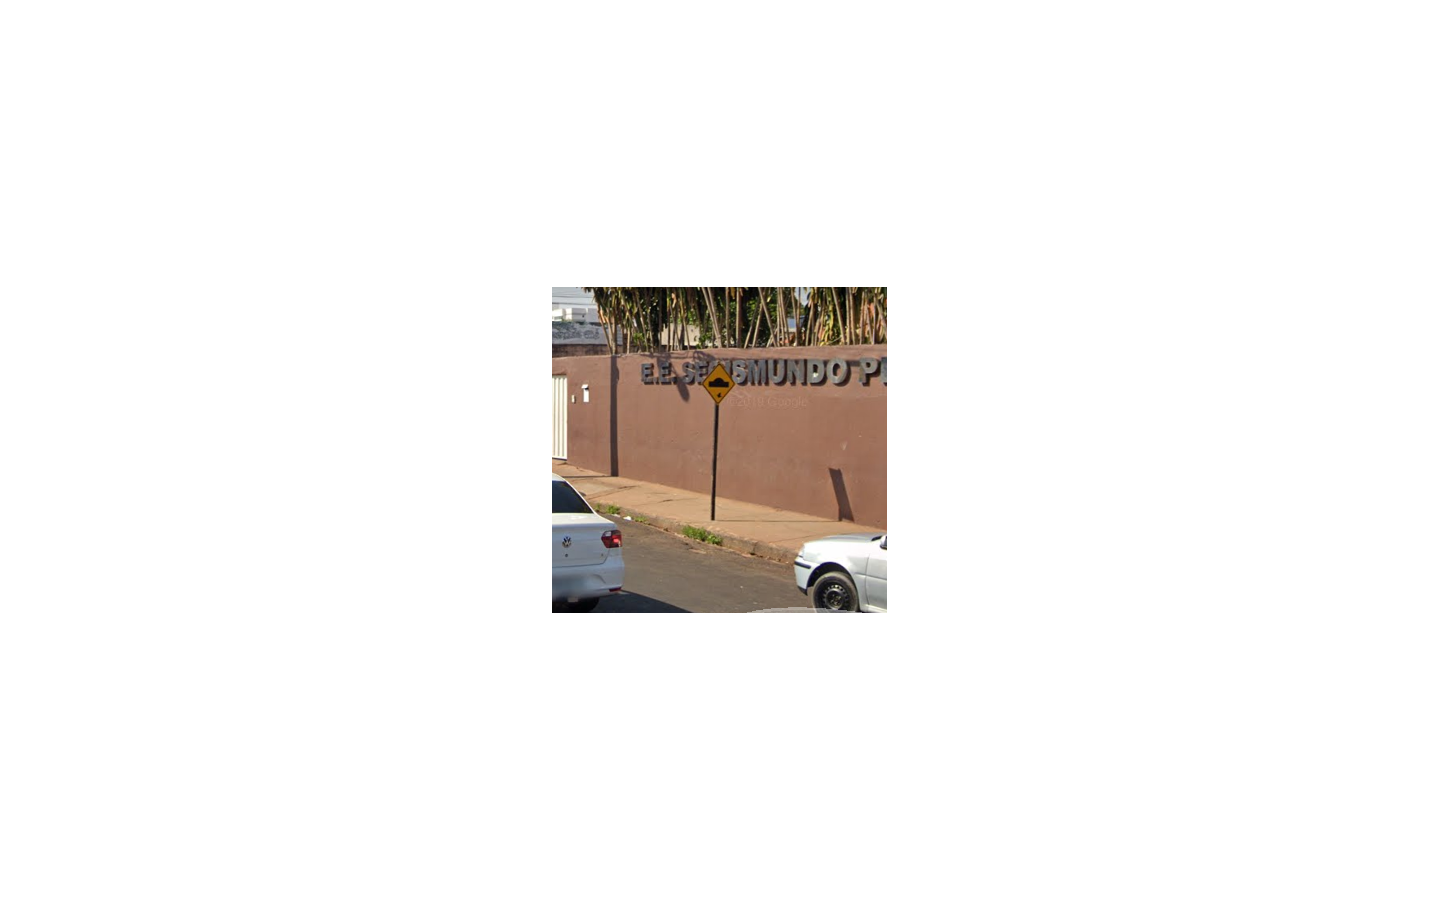lomb: (702, 363, 735, 403)
